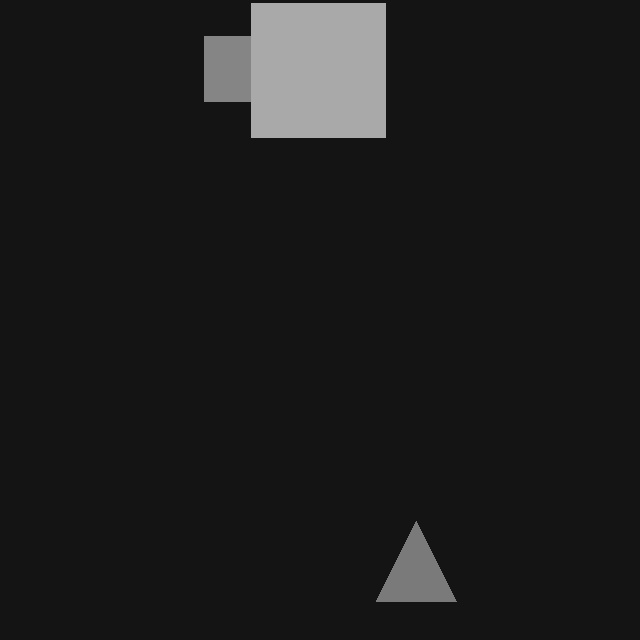square: (251, 3, 385, 137), (204, 36, 269, 101)
triangle: (376, 521, 456, 601)
